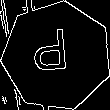P_S: (36, 30, 78, 83)
